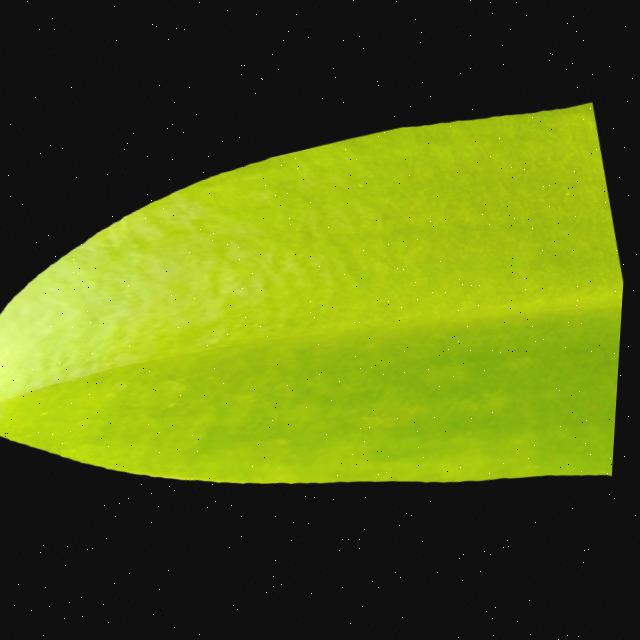mite: (158, 368, 198, 410), (559, 182, 579, 201), (354, 176, 369, 190), (563, 185, 576, 198)
spots: (0, 79, 627, 621)
